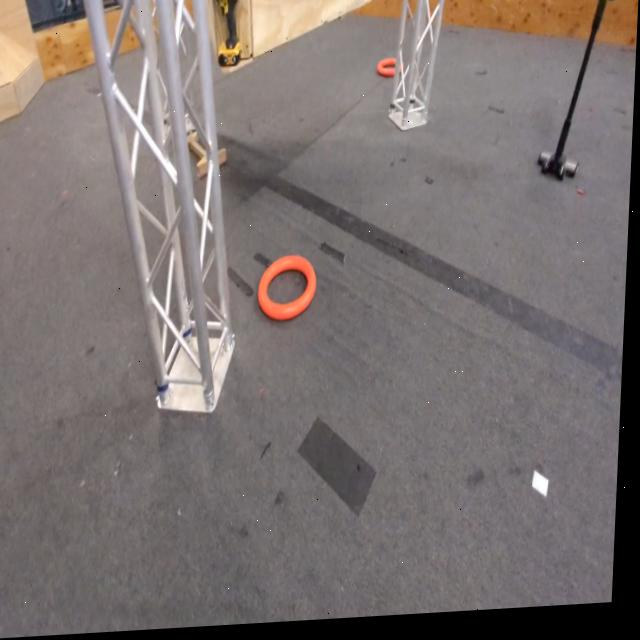note: (259, 260, 320, 327), (378, 63, 402, 84)
